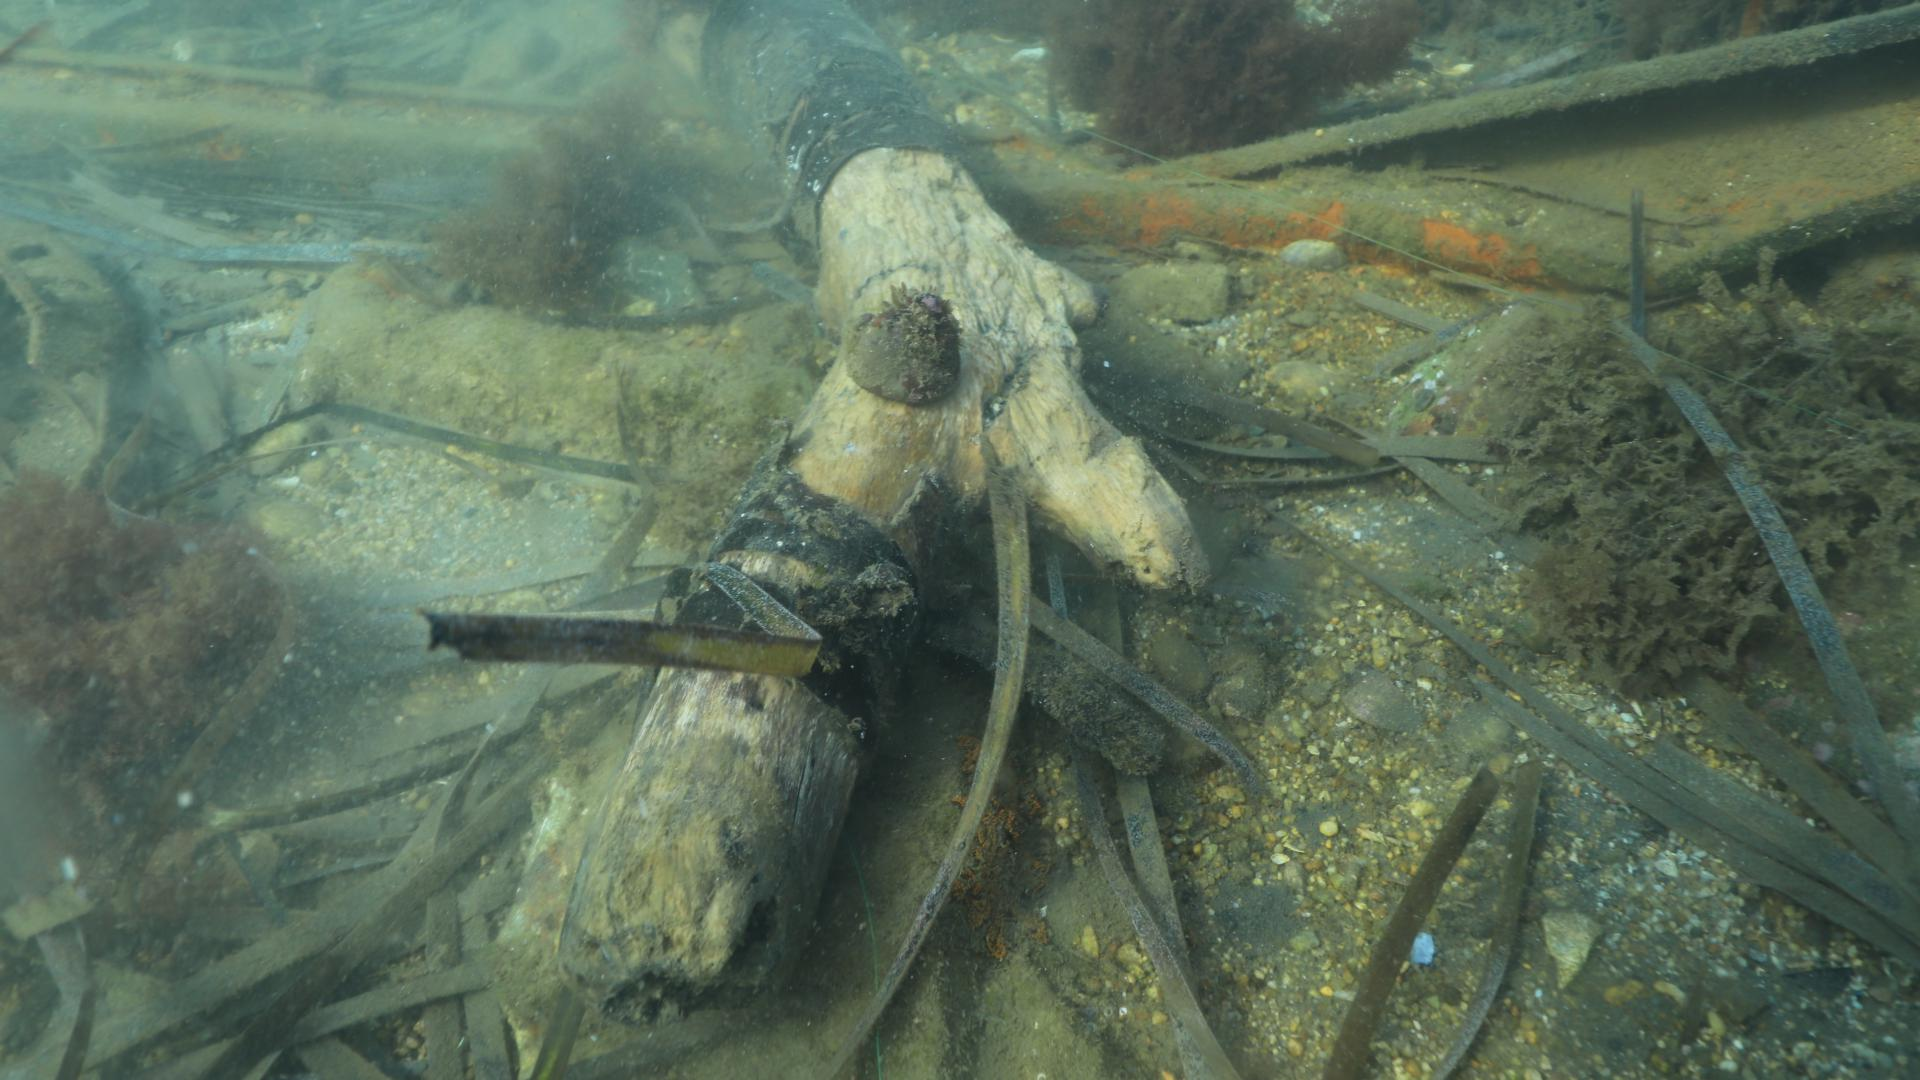wood: (471, 44, 1207, 1031)
